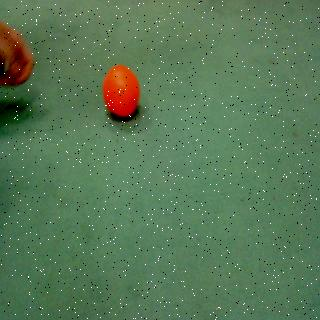orange: (99, 62, 145, 126)
